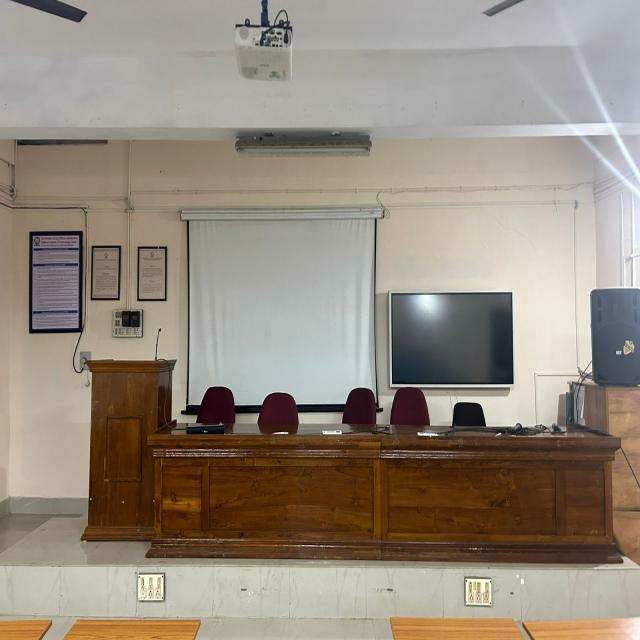Table ahead at: (163, 436, 624, 564), (78, 346, 159, 550)
chair ahead at: (194, 381, 238, 429), (258, 388, 300, 435), (390, 388, 433, 426), (342, 392, 379, 429)
